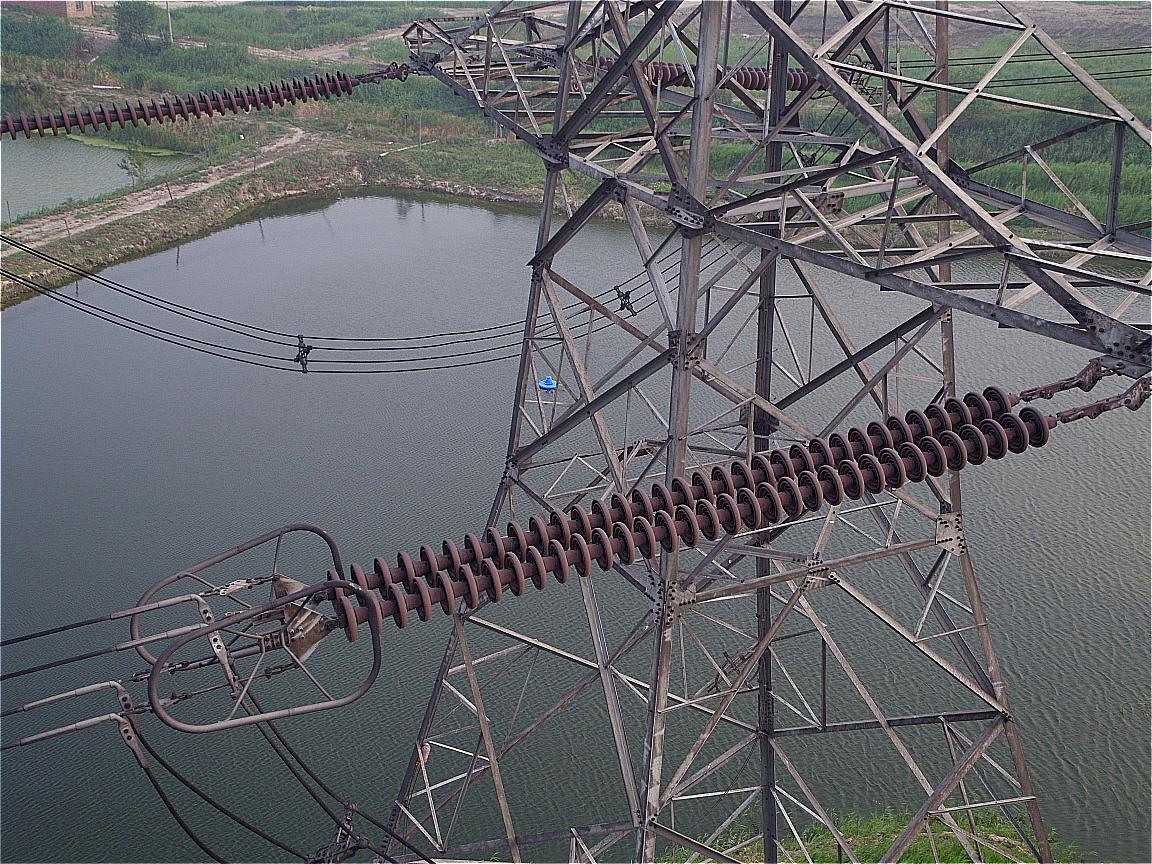insultor1: (329, 384, 1050, 642), (5, 67, 352, 139)
